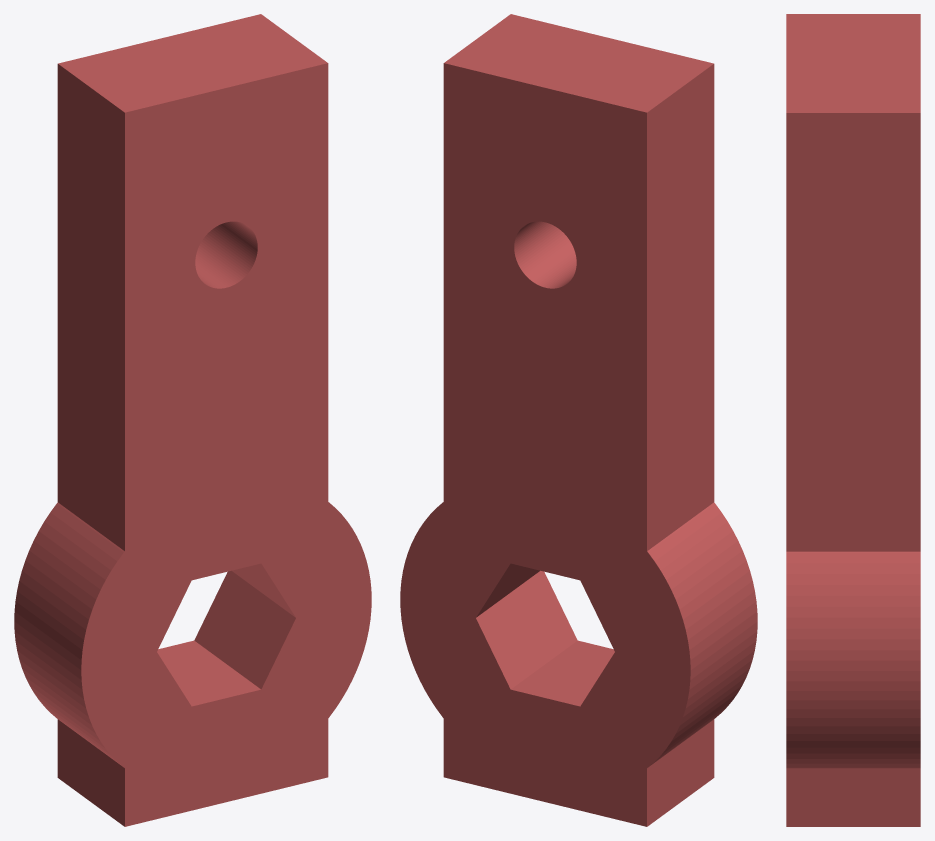
The model's file is ali_manivela.glb.
3 views of the same model, side by side, from view 1: azimuth 30°, elevation 25°; view 2: azimuth 150°, elevation 25°; view 3: azimuth 270°, elevation 25° (orthographic).
Visible parts, largest first — view 1: world; view 2: world; view 3: world.
Part boxes in pixels (<box>): world: <box>14,14,371,826</box>; world: <box>400,14,757,826</box>; world: <box>786,14,920,826</box>.
Size of the model in its own units: 20 by 47 by 8.
